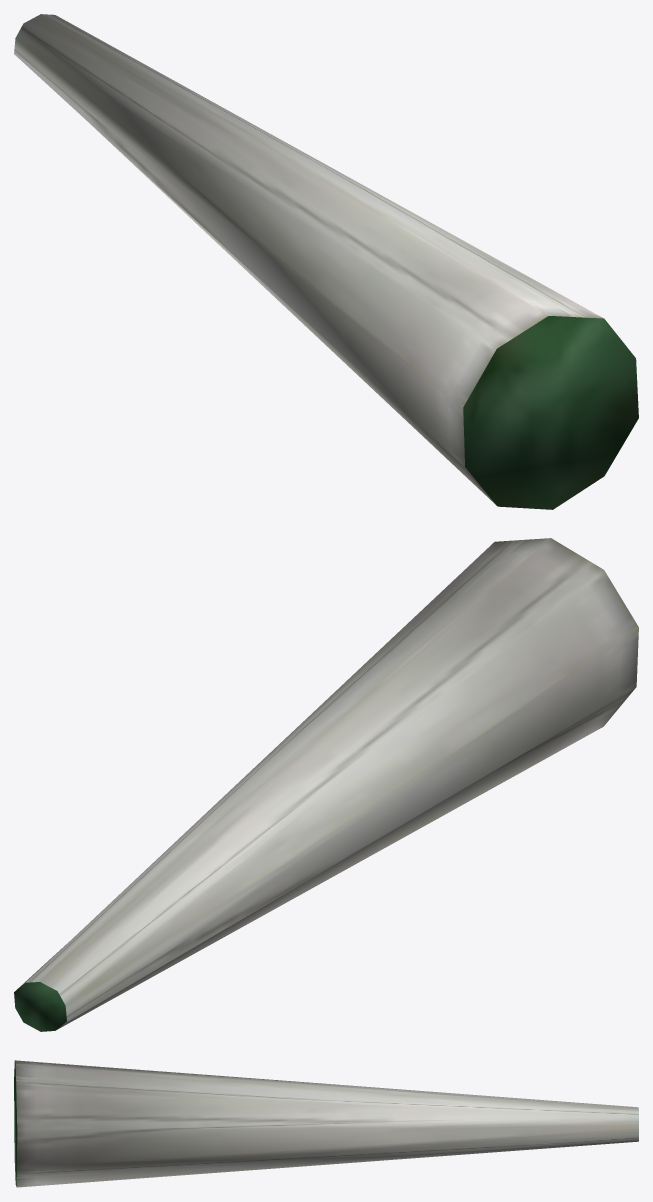
The model's file is ITMI_FATBLUNT.glb.
3 views of the same model, one above another, from view 1: azimuth 30°, elevation 25°; view 2: azimuth 150°, elevation 25°; view 3: azimuth 270°, elevation 25° (orthographic). The views are drawn at different scales.
Visible parts, largest first — view 1: Mesh; view 2: Mesh; view 3: Mesh.
Part boxes in pixels (bbox=[...]): Mesh: bbox=[14, 14, 638, 509]; Mesh: bbox=[14, 538, 638, 1031]; Mesh: bbox=[14, 1060, 638, 1187].
Bounding box in the file's own units: 0.0365 × 0.0382 × 0.1819.
1 material, 1 textured.
